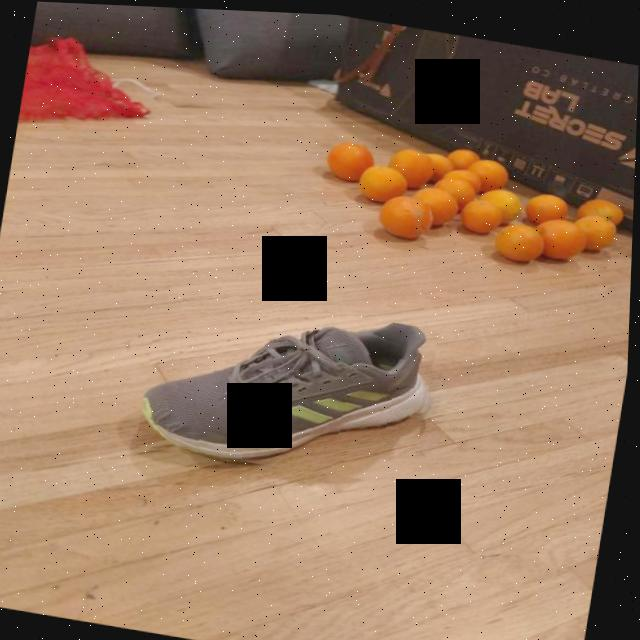shoe: (138, 281, 443, 489)
